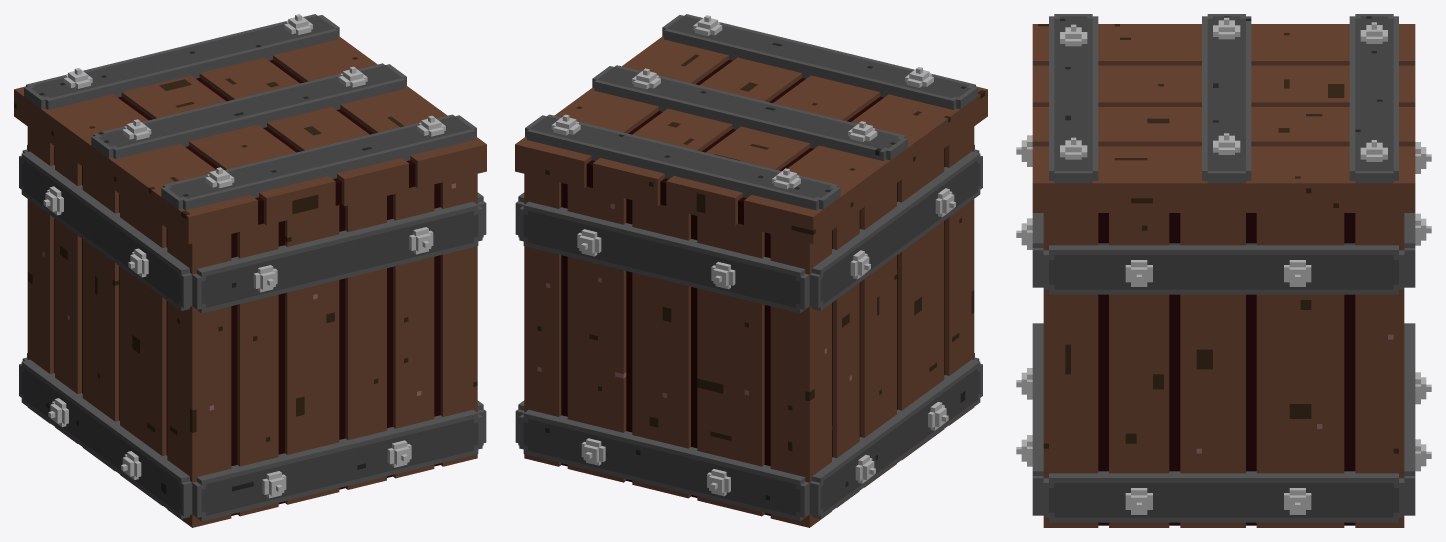
The model's file is Crate.obj.
The picture shows the model from 3 angles, left to right: view 1: azimuth 30°, elevation 25°; view 2: azimuth 150°, elevation 25°; view 3: azimuth 270°, elevation 25°; orthographic projection. The views are drawn at different scales.
Bounding box in the file's own units: 76 × 75 × 76.
1 material, 1 textured.
